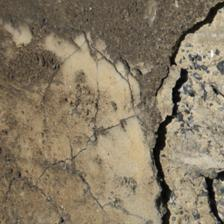Crack: (70, 0, 221, 146), (129, 83, 215, 224), (119, 63, 190, 119), (0, 54, 94, 74)
